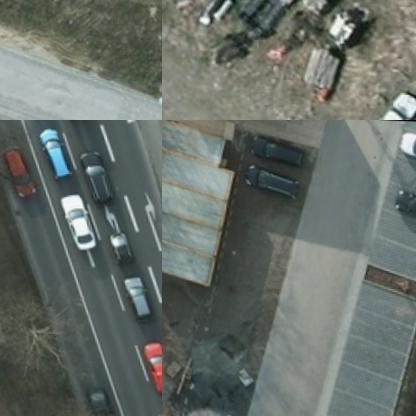car: (52, 193, 98, 249), (72, 145, 116, 200), (0, 139, 39, 199), (245, 161, 302, 202), (250, 136, 314, 170), (36, 124, 74, 178), (363, 84, 415, 119), (116, 272, 148, 320), (136, 340, 161, 394), (76, 386, 118, 415), (99, 227, 134, 259), (391, 184, 415, 216), (400, 129, 415, 164)
